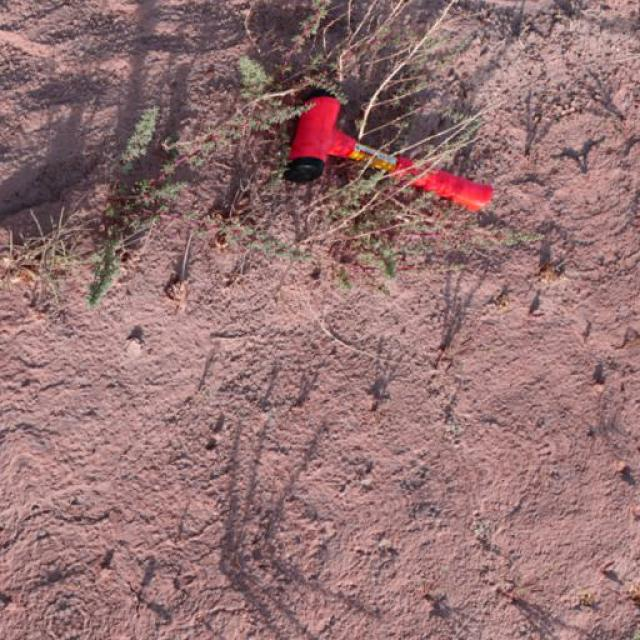mallet: (280, 88, 494, 212)
